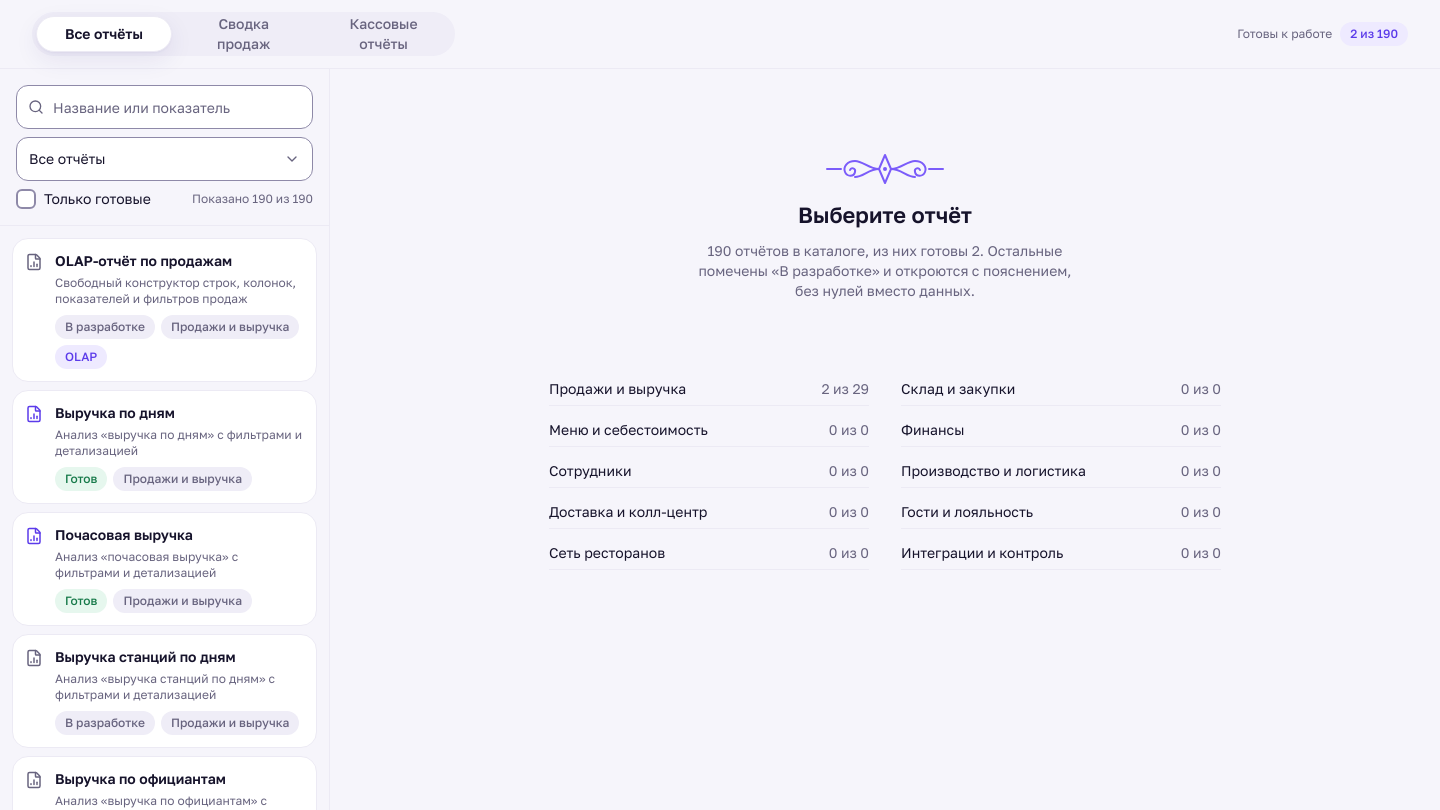
it: report catalog (W1-RPT-03) › searches by title and description
This screenshot has width=1440, height=810.
Step 1. Type "почасовая" into the search field named "Поиск отчёта" → (164, 107), box [16,85,313,129]
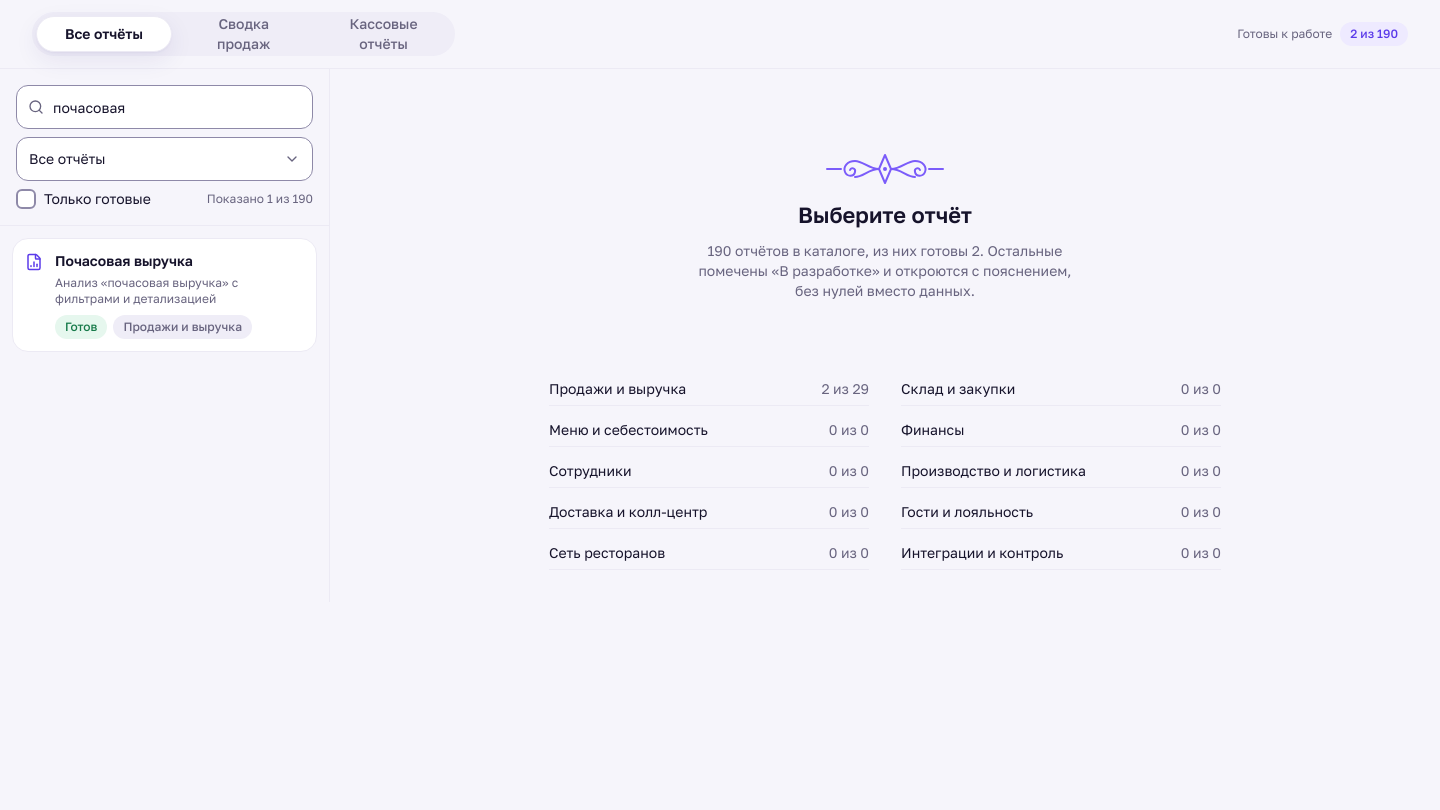
Now the text "Показано 1 из 190" is shown, box [207,191,313,207]
Step 2. Replace the text in the search field named "Поиск отчёта" with "нет такого отчёта" → (164, 107), box [16,85,313,129]
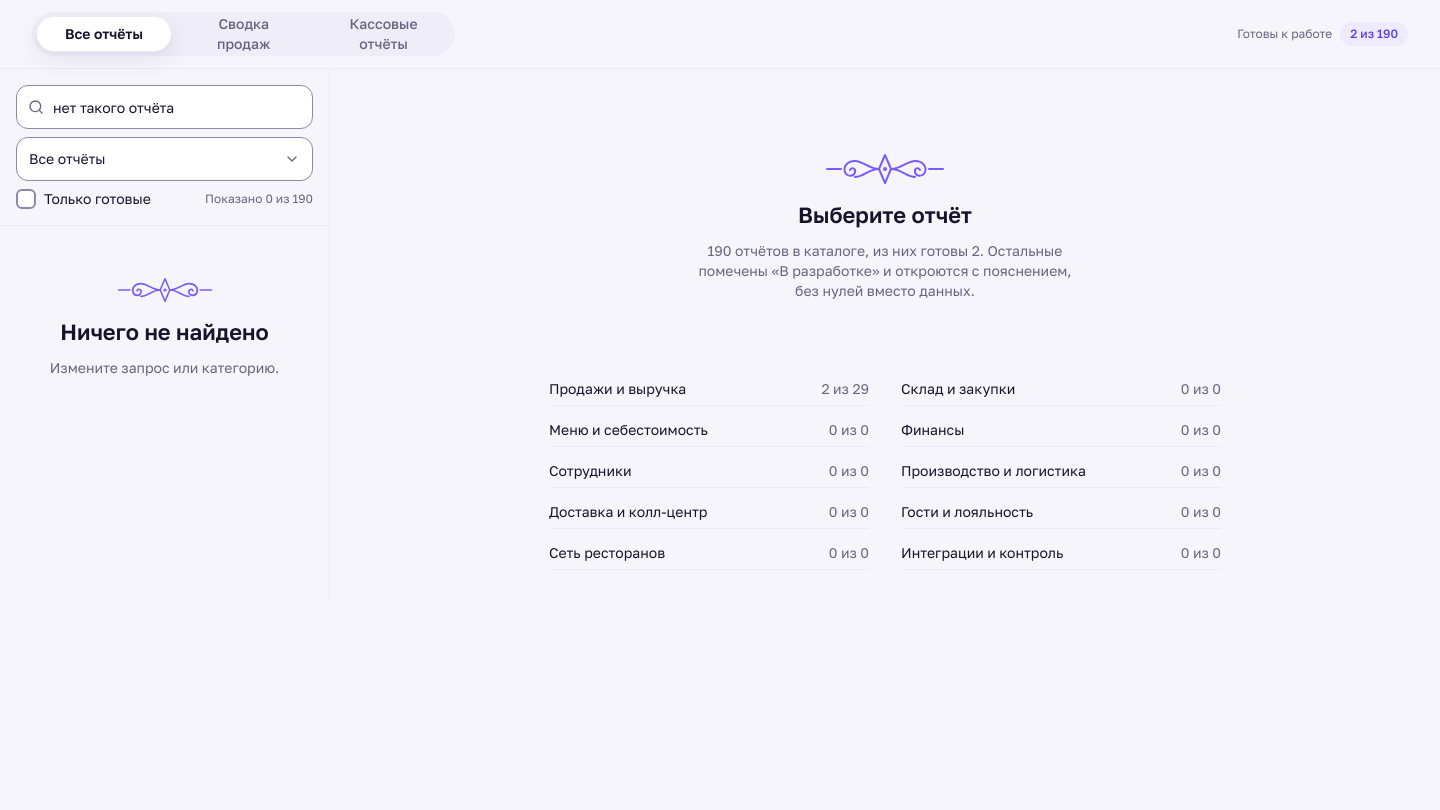
Now the text "Ничего не найдено" is shown, box [60,318,269,346]
